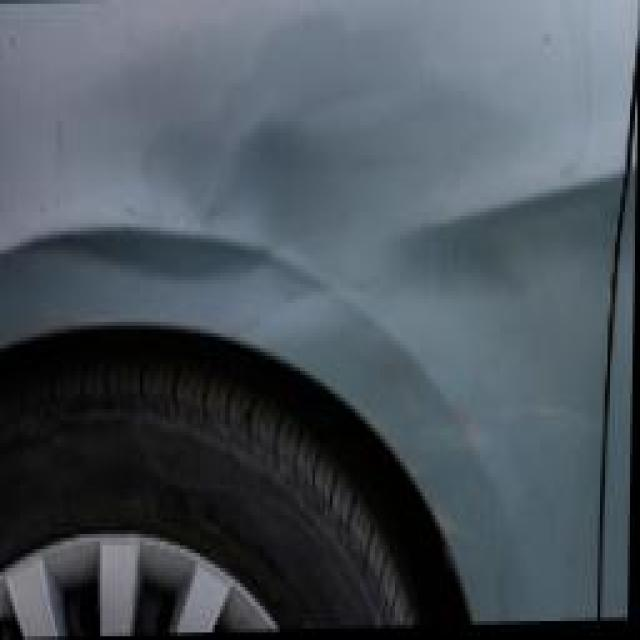Fender: (2, 61, 557, 548)
